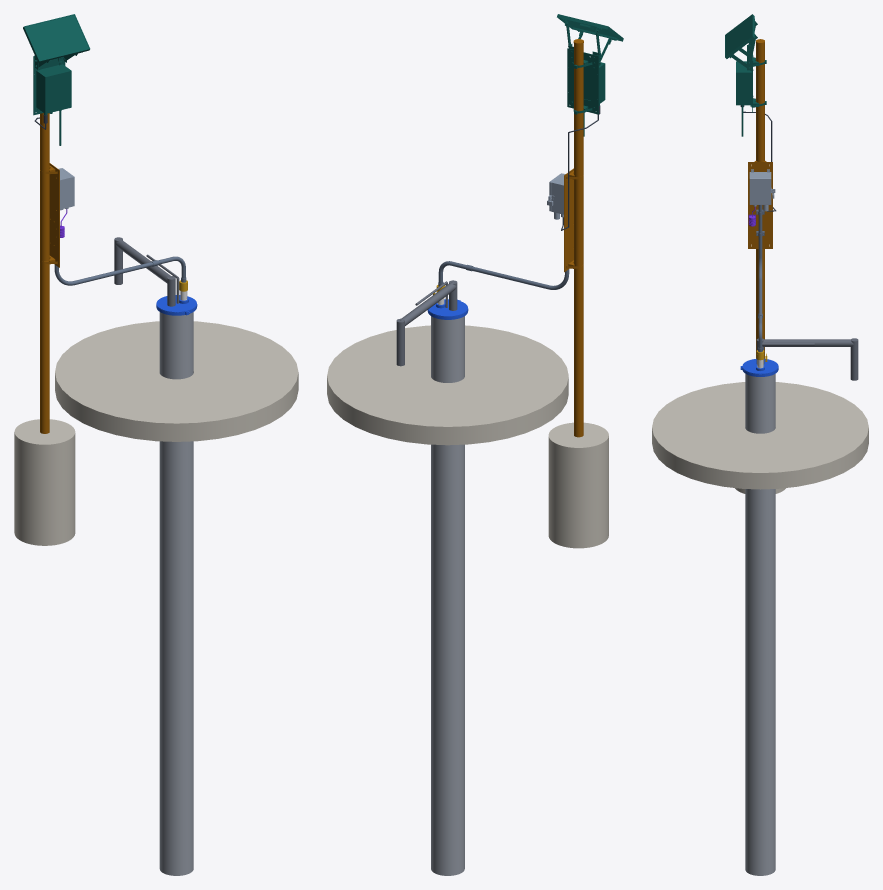
3 views of the same model, side by side, from view 1: azimuth 30°, elevation 25°; view 2: azimuth 150°, elevation 25°; view 3: azimuth 270°, elevation 25° (orthographic). The views are drawn at different scales.
Visible parts, largest first — view 1: Existing concrete apron, Existing casing, 150 mm (not in kit), Post footing, concrete, FieldNode core (built to FND-BLD-001), Post, junction box plate, V-blocks, bands, Existing pump, riser and cable (not in kit), Conduit, flexible tail, saddles, hub, Split seal plate, gasket, wraps, rim band, collar, Junction box, lugs, entries, breather; view 2: Existing concrete apron, Existing casing, 150 mm (not in kit), Post footing, concrete, Post, junction box plate, V-blocks, bands, FieldNode core (built to FND-BLD-001), Existing pump, riser and cable (not in kit), Conduit, flexible tail, saddles, hub, Junction box, lugs, entries, breather; view 3: Existing concrete apron, Existing casing, 150 mm (not in kit), Post, junction box plate, V-blocks, bands, FieldNode core (built to FND-BLD-001), Existing pump, riser and cable (not in kit), Junction box, lugs, entries, breather, Conduit, flexible tail, saddles, hub, Split seal plate, gasket, wraps, rim band, collar.
Boxes of the visible parts, x1,y1,x2,y2 form: Existing concrete apron: [55, 321, 298, 441]; Existing casing, 150 mm (not in kit): [159, 312, 193, 875]; Post footing, concrete: [14, 419, 75, 545]; FieldNode core (built to FND-BLD-001): [23, 14, 90, 145]; Post, junction box plate, V-blocks, bands: [40, 113, 59, 433]; Existing pump, riser and cable (not in kit): [114, 237, 179, 306]; Conduit, flexible tail, saddles, hub: [54, 256, 186, 285]; Split seal plate, gasket, wraps, rim band, collar: [156, 295, 197, 315]; Junction box, lugs, entries, breather: [58, 168, 74, 210]; Existing concrete apron: [327, 325, 568, 445]; Existing casing, 150 mm (not in kit): [431, 316, 464, 875]; Post footing, concrete: [548, 422, 608, 548]; Post, junction box plate, V-blocks, bands: [564, 39, 583, 437]; FieldNode core (built to FND-BLD-001): [557, 14, 623, 136]; Existing pump, riser and cable (not in kit): [396, 280, 457, 366]; Conduit, flexible tail, saddles, hub: [438, 261, 569, 289]; Junction box, lugs, entries, breather: [547, 173, 565, 219]; Existing concrete apron: [652, 382, 868, 489]; Existing casing, 150 mm (not in kit): [745, 374, 775, 875]; Post, junction box plate, V-blocks, bands: [748, 39, 772, 358]; FieldNode core (built to FND-BLD-001): [725, 14, 766, 136]; Existing pump, riser and cable (not in kit): [756, 338, 858, 380]; Junction box, lugs, entries, breather: [749, 169, 775, 211]; Conduit, flexible tail, saddles, hub: [756, 205, 764, 352]; Split seal plate, gasket, wraps, rim band, collar: [740, 358, 778, 376].
Bounding box in the file's own units: 1.5 × 4.81 × 1.2.
